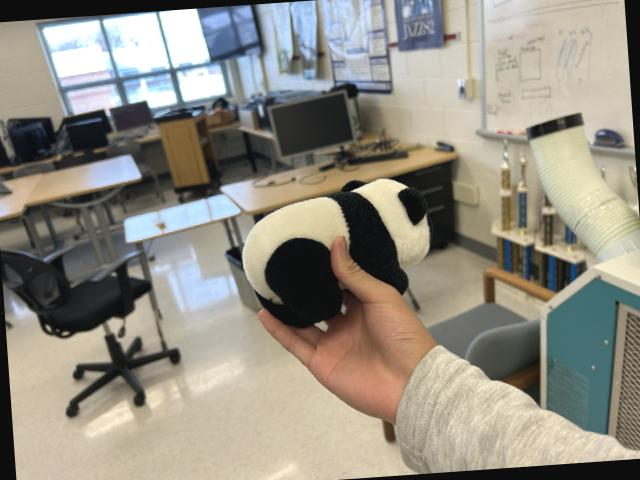panda_plushie: (238, 174, 434, 330)
